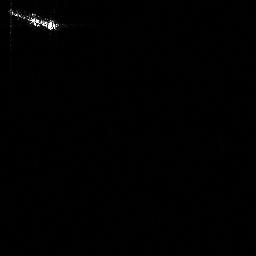ship: (5, 4, 64, 36)
